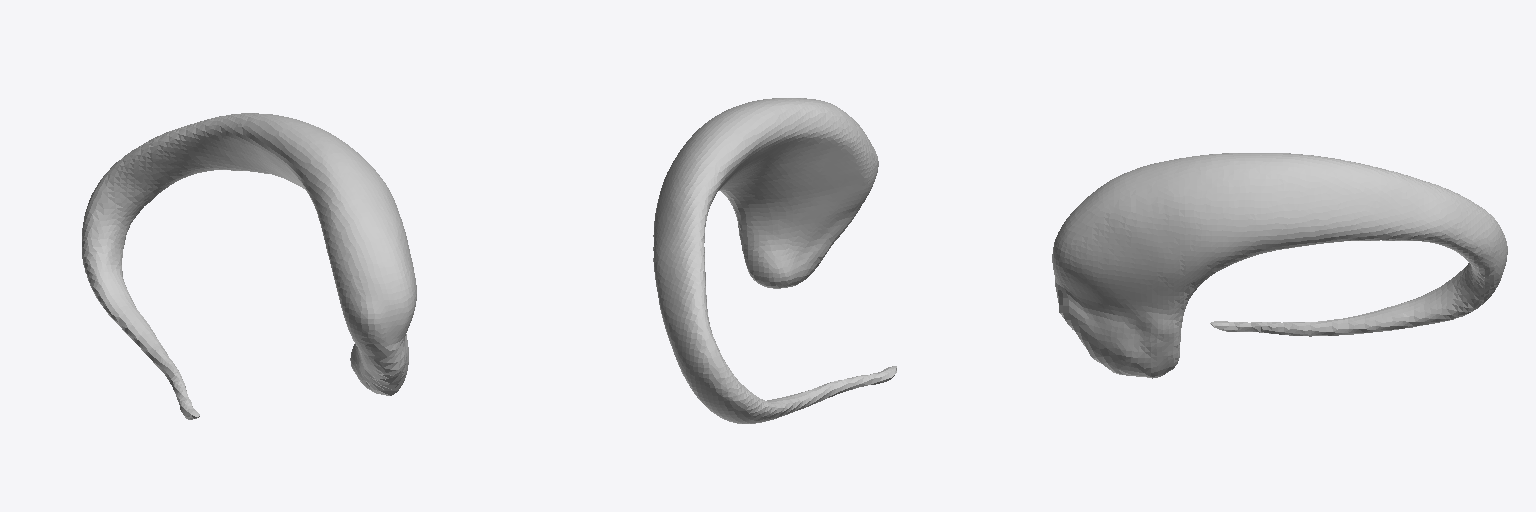
File: Caudate_nucleus1.obj
3 renders of one model, left to right at view 1: azimuth 30°, elevation 25°; view 2: azimuth 150°, elevation 25°; view 3: azimuth 270°, elevation 25°, orthographic.
Visible parts, largest first — view 1: obj0; view 2: obj0; view 3: obj0.
Part boxes in pixels (left/top/right/bottom): obj0: left=82, top=113, right=416, bottom=419; obj0: left=653, top=98, right=896, bottom=423; obj0: left=1052, top=153, right=1507, bottom=378.
Size of the model in its own units: 15.14 by 17.67 by 30.32.